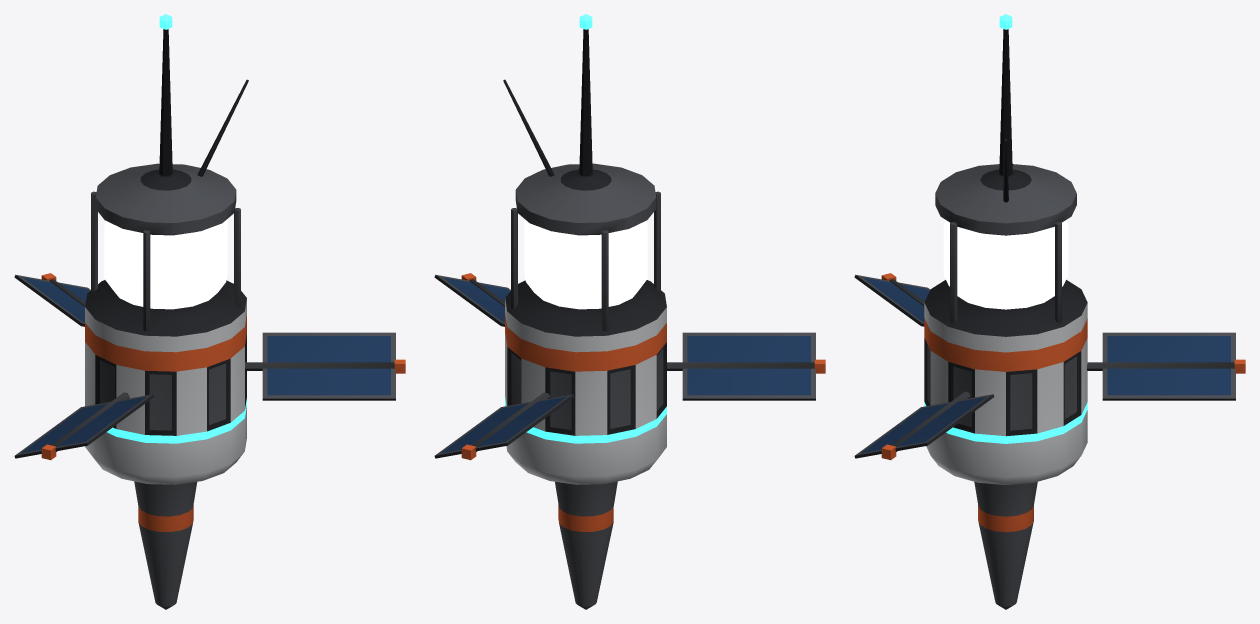
File: beacon.glb
3 views of the same model, side by side, from view 1: azimuth 30°, elevation 25°; view 2: azimuth 150°, elevation 25°; view 3: azimuth 270°, elevation 25° (orthographic).
Parts seen in each view (by area): view 1: beacon_mesh; view 2: beacon_mesh; view 3: beacon_mesh.
Boxes of the visible parts, x1,y1,x2,y2 form: beacon_mesh: (14,14,405,609); beacon_mesh: (434,14,825,609); beacon_mesh: (854,14,1245,609).
Size of the model in its own units: 20.51 by 30.62 by 18.21.
